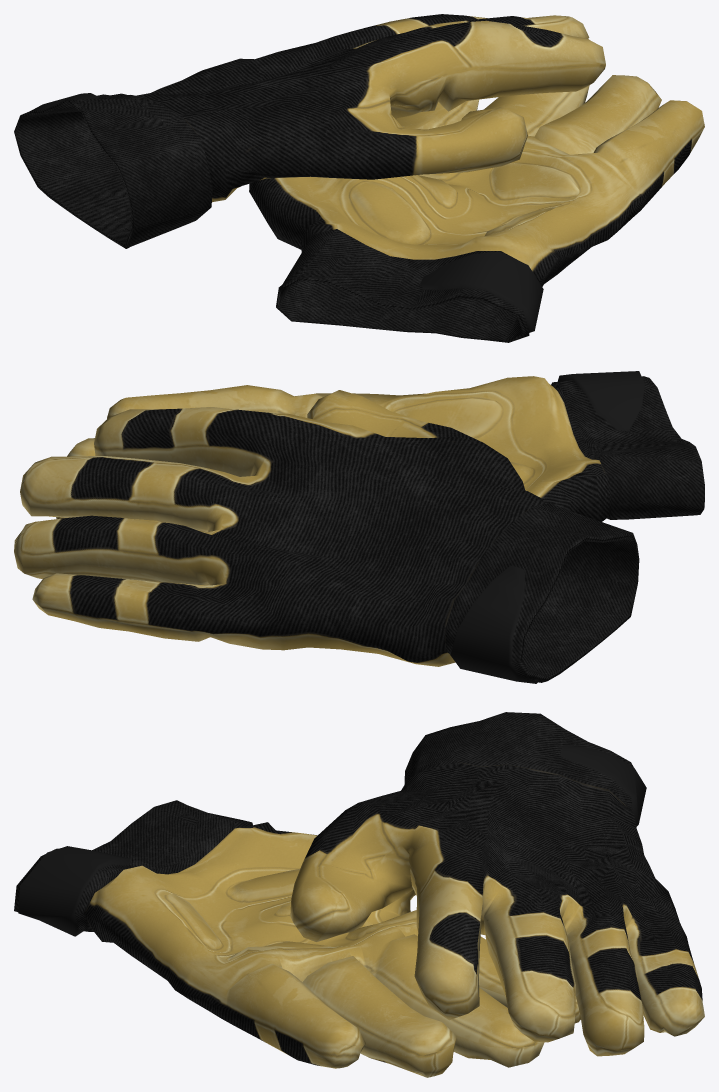
File: Luva.glb
3 views of the same model, one above another, from view 1: azimuth 30°, elevation 25°; view 2: azimuth 150°, elevation 25°; view 3: azimuth 270°, elevation 25° (orthographic). The views are drawn at different scales.
Visible parts, largest first — view 1: Mechanical_Gloves; view 2: Mechanical_Gloves; view 3: Mechanical_Gloves.
Boxes of the visible parts, x1,y1,x2,y2 form: Mechanical_Gloves: (14, 14, 704, 342); Mechanical_Gloves: (14, 371, 704, 683); Mechanical_Gloves: (14, 712, 704, 1077).
Bounding box in the file's own units: 2.72 × 0.603 × 2.97.
Materials: 1 (1 with a texture image).
